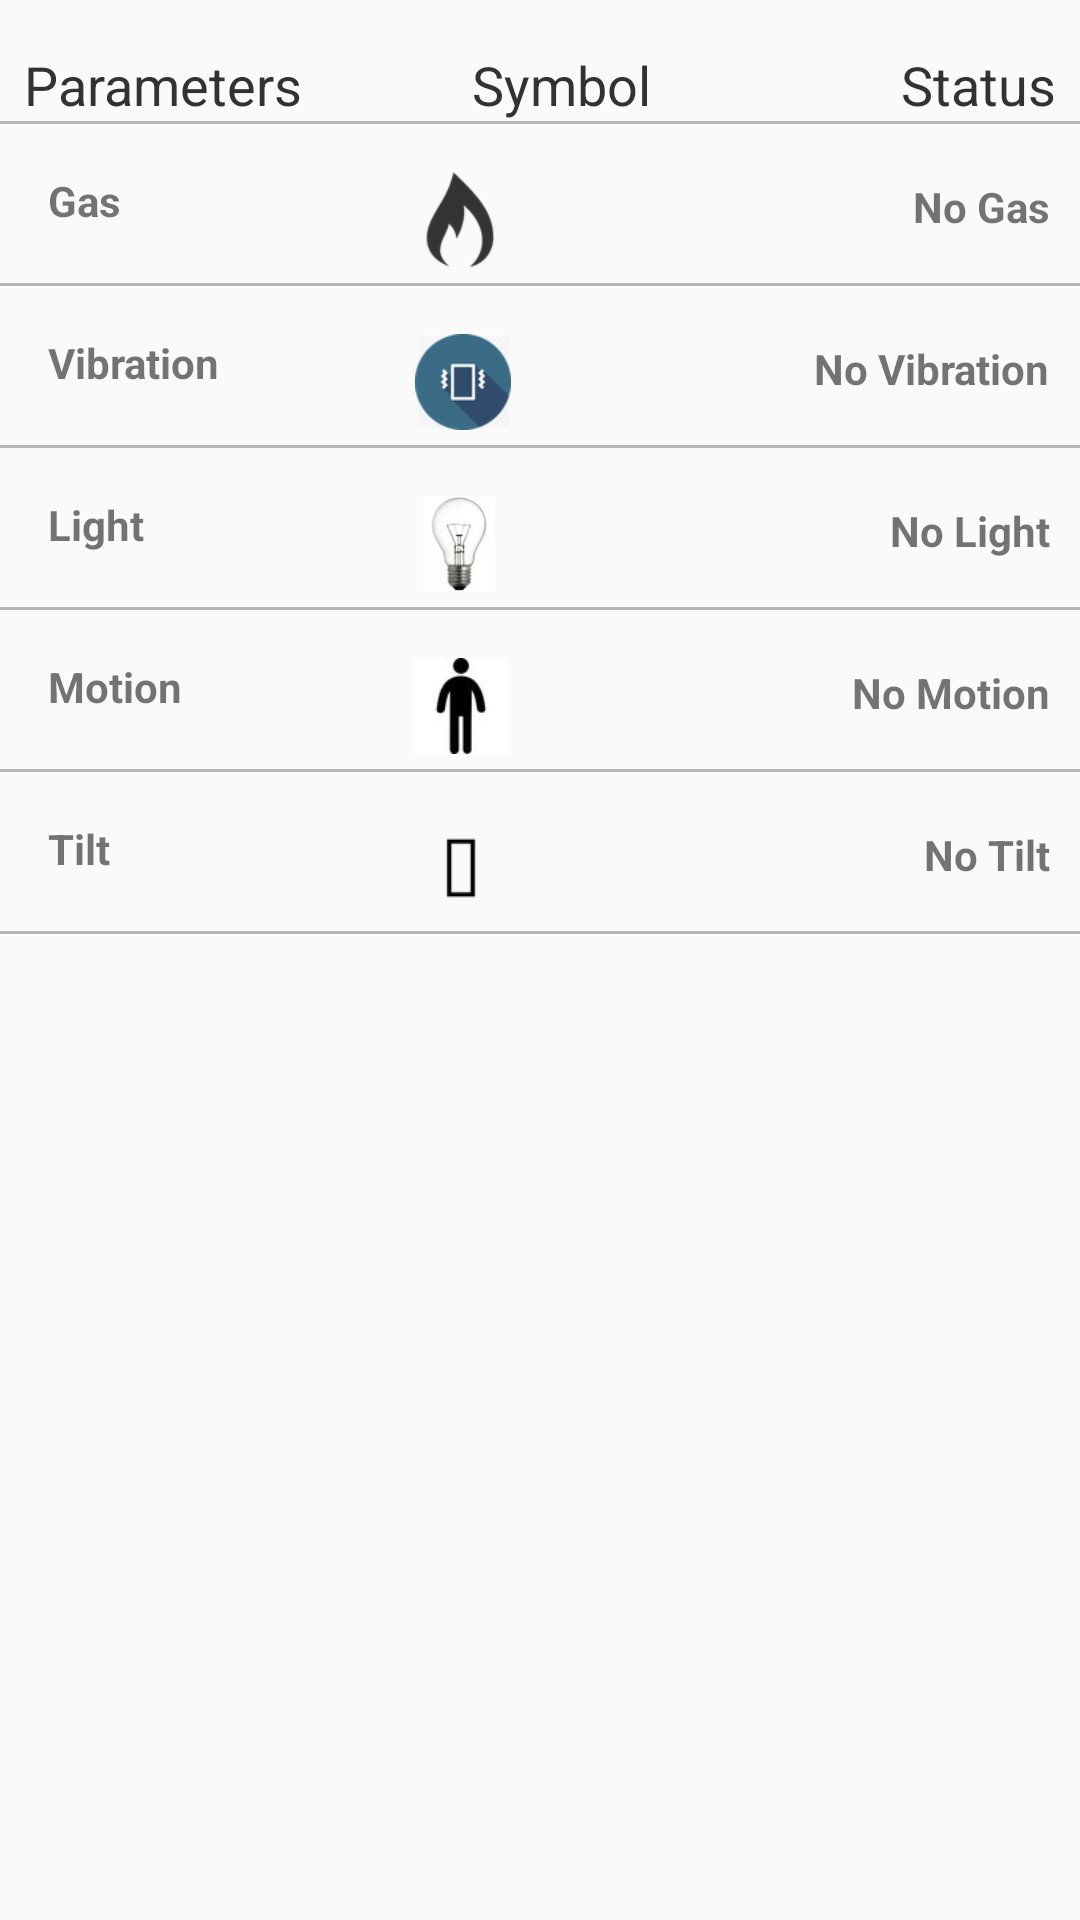

Icons on this 1080w x 1920h Android screen, each with the point to tap as (x=x, y=y):
gas prev: (x=460, y=219)
motion prev: (x=461, y=706)
vib: (x=463, y=382)
